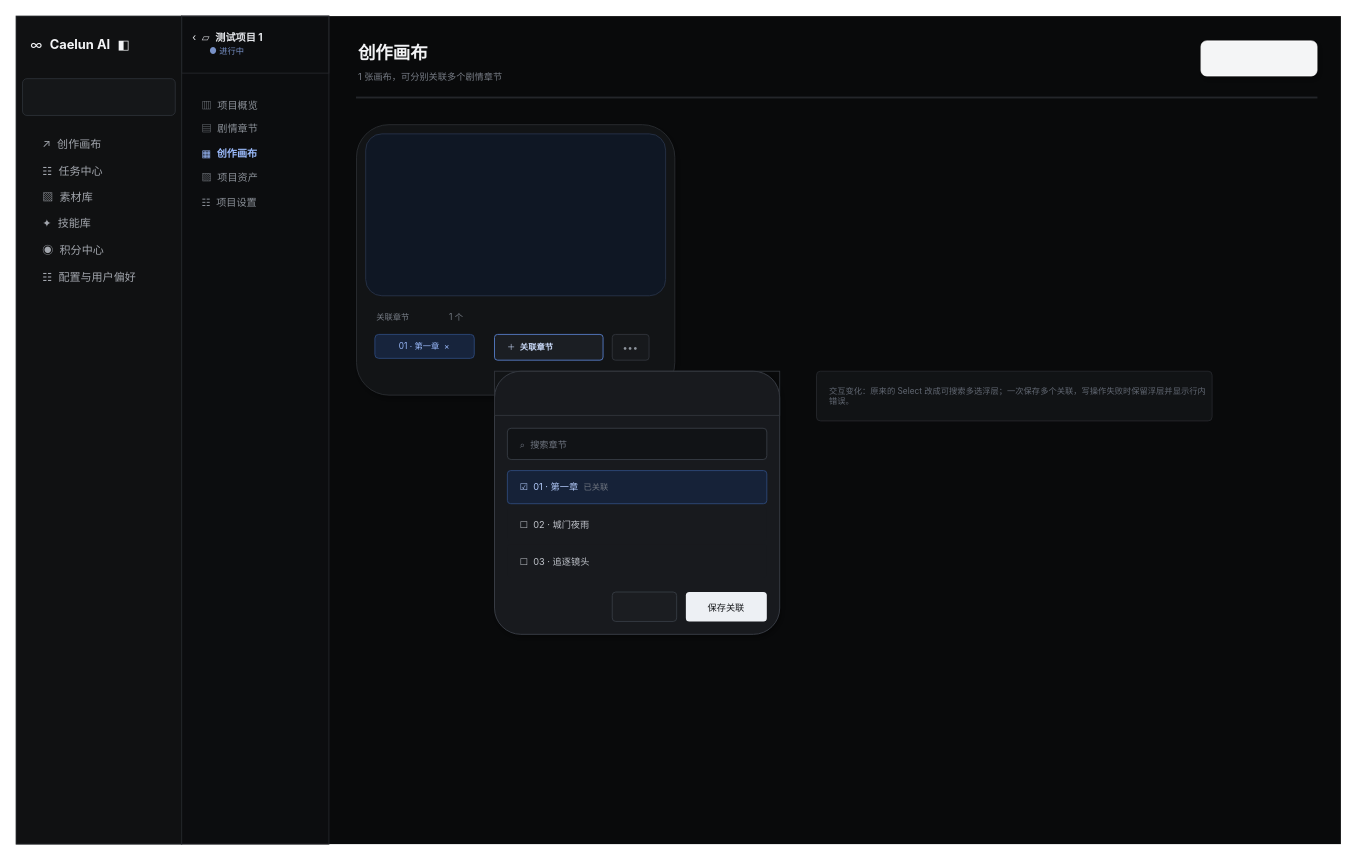
Image size: 1357x860. Some labels were removed from this diagram. The centre of each missing label's shape, as x and y in pixels:
"▣ 项目中心" belongs at pixel 98 96.
"关联剧情章节 ×" belongs at pixel 637 392.
"取消" belongs at pixel 644 606.
"画布 01 111 更新于 07/24 22:24" belongs at pixel 515 214.
"＋ 新建画布" belongs at pixel 1259 59.
